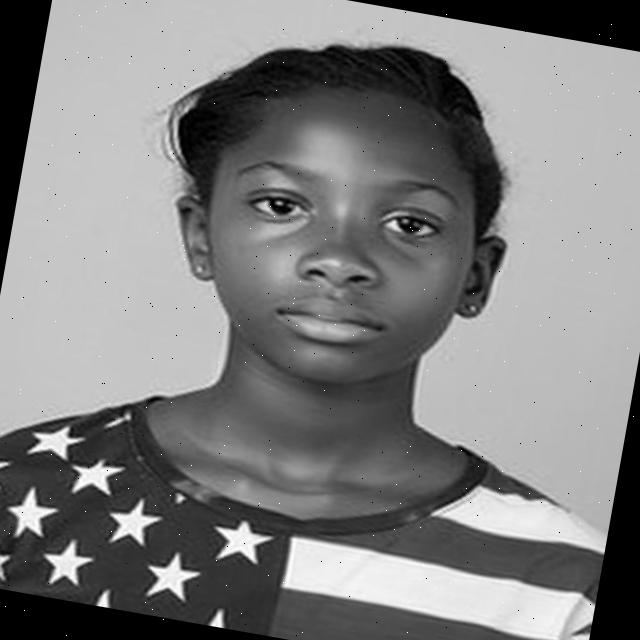Neutral: (184, 70, 496, 403)
